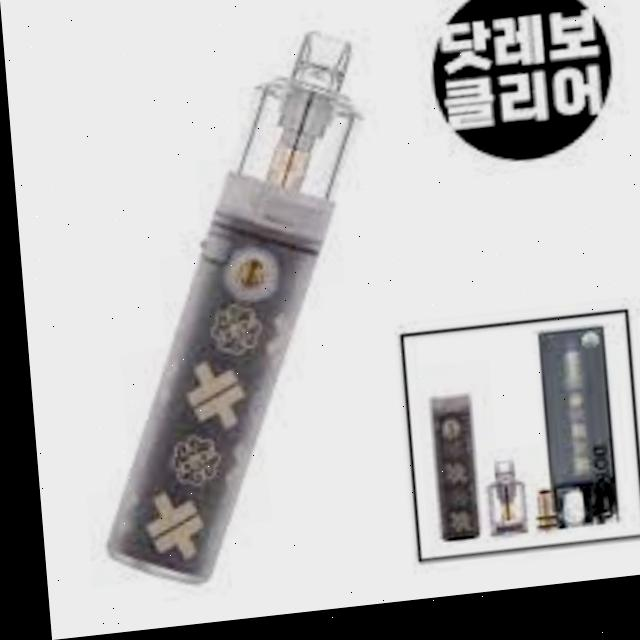vape: (62, 31, 392, 601), (557, 360, 586, 498)
